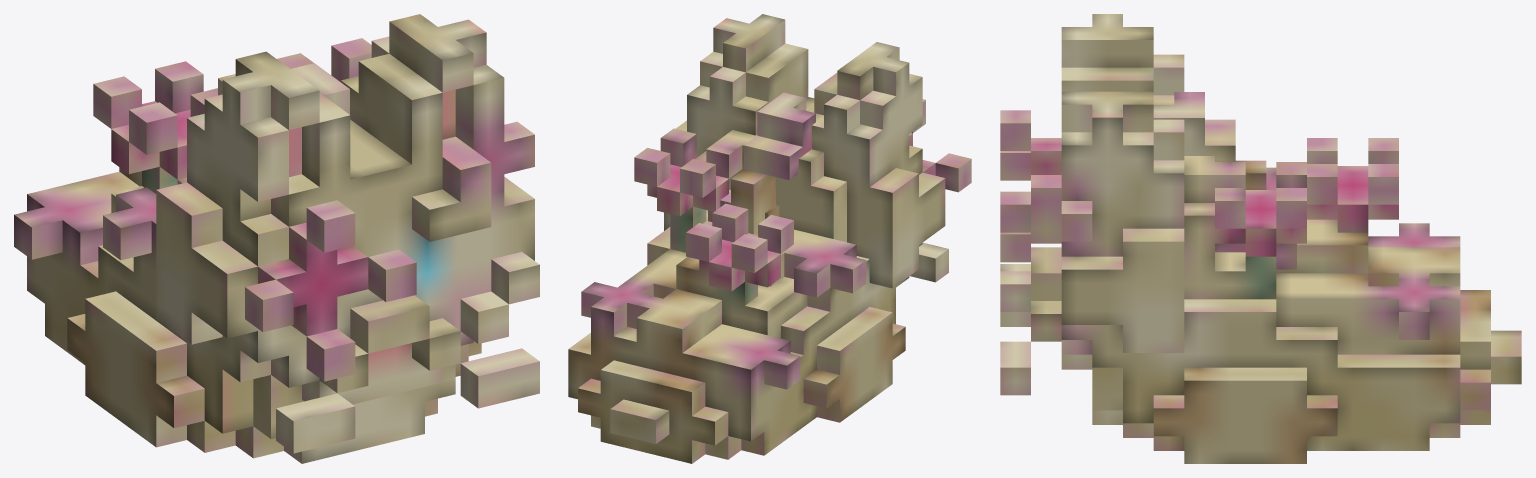
The model's file is skin_20.fbx.
3 views of the same model, side by side, from view 1: azimuth 30°, elevation 25°; view 2: azimuth 150°, elevation 25°; view 3: azimuth 270°, elevation 25° (orthographic). The views are drawn at different scales.
Visible parts, largest first — view 1: skin_20-5, skin_20-0; view 2: skin_20-5, skin_20-0; view 3: skin_20-5, skin_20-0.
Boxes of the visible parts, box(x1,y1,x2,y2) form: skin_20-5: box(14, 14, 539, 463); skin_20-0: box(290, 63, 349, 114); skin_20-5: box(568, 14, 971, 463); skin_20-0: box(704, 92, 815, 235); skin_20-5: box(1000, 14, 1521, 463); skin_20-0: box(1153, 92, 1296, 269).
Size of the model in its own units: 100 by 120 by 170.
